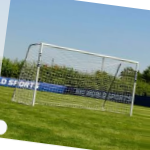goals: (10, 40, 141, 119)
